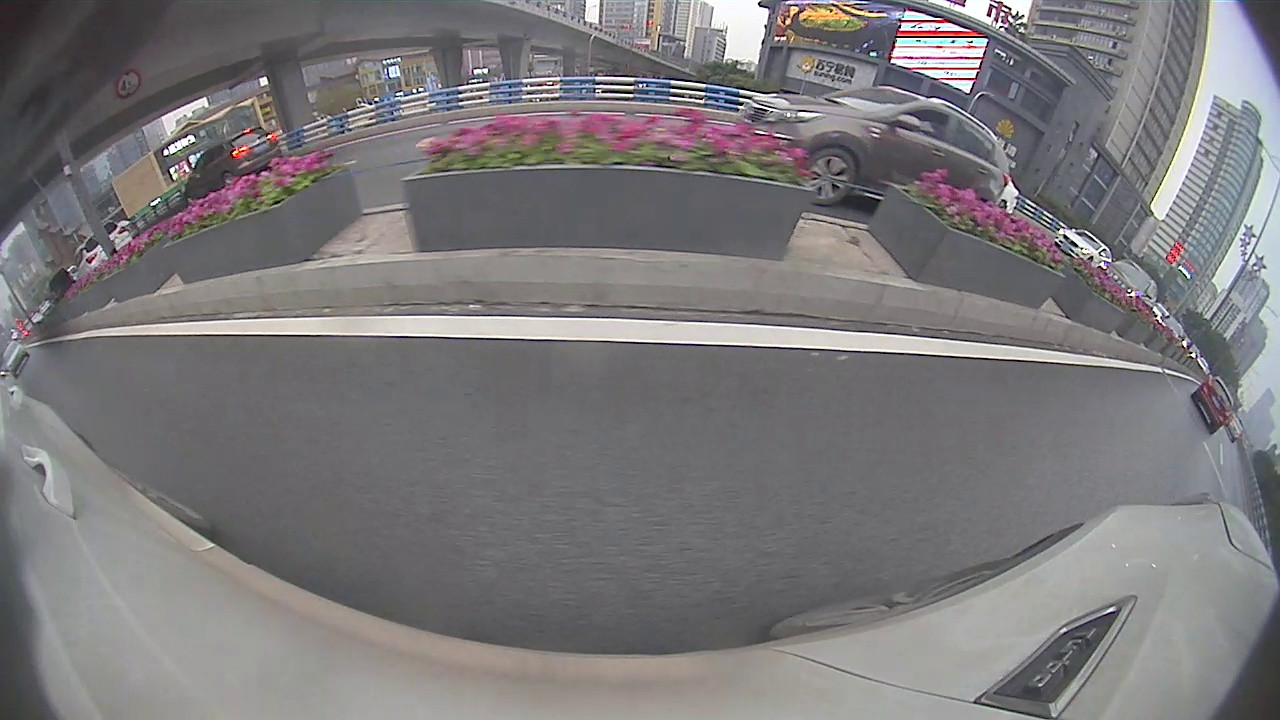car: (1191, 375, 1235, 435)
front: (801, 146, 857, 207)
